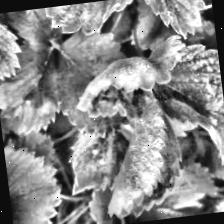Powdery Mildew Leaf: (94, 84, 188, 221), (145, 28, 224, 174), (70, 54, 160, 122), (39, 0, 147, 40)
